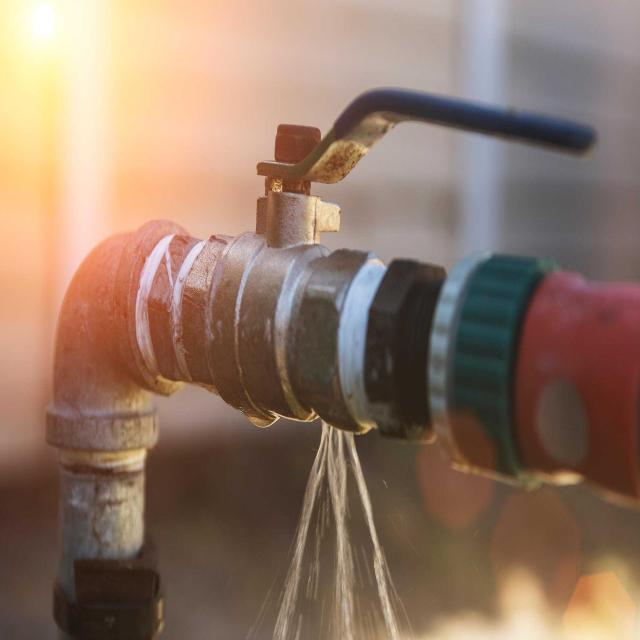leak: (274, 422, 409, 639)
